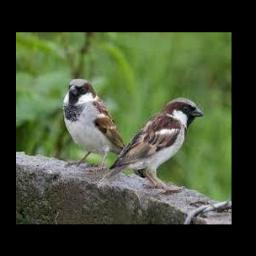Sparrow: (95, 97, 204, 190), (63, 78, 148, 177)
